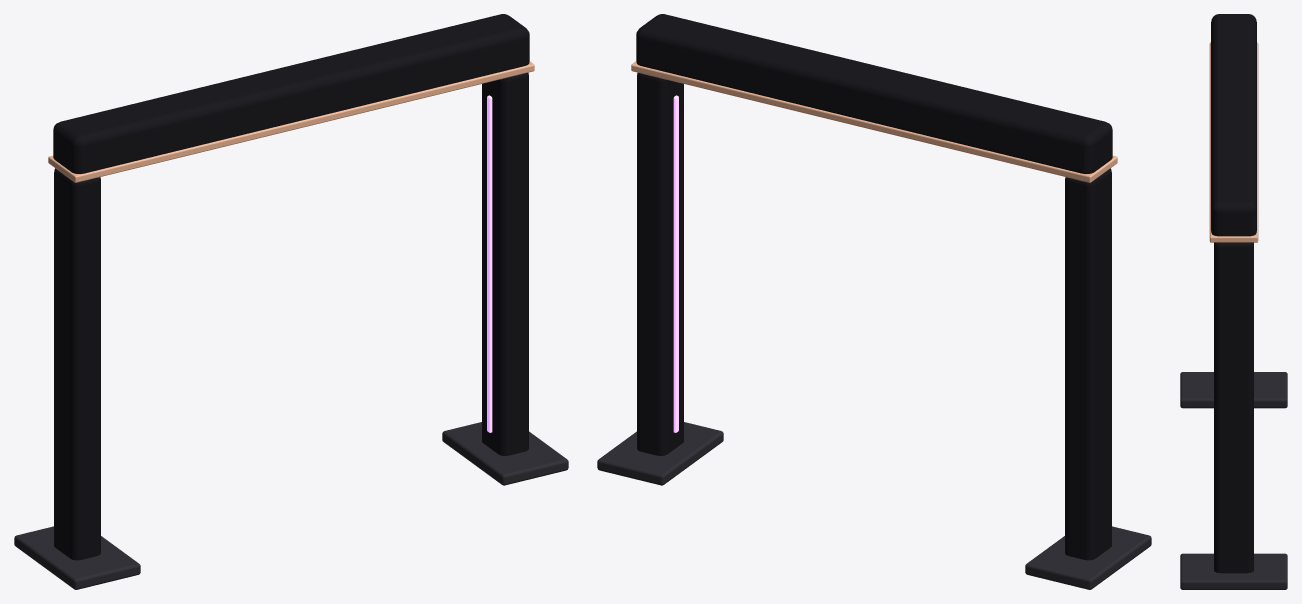
File: portal.glb
3 renders of one model, left to right at view 1: azimuth 30°, elevation 25°; view 2: azimuth 150°, elevation 25°; view 3: azimuth 270°, elevation 25°, orthographic. The views are drawn at different scales.
Parts seen in each view (by area): view 1: beam, post_-1, post_1, beam_copper, foot_1, foot_-1, post_led_1; view 2: beam, post_-1, post_1, beam_copper, foot_1, foot_-1, post_led_1; view 3: post_1, beam, foot_1, foot_-1, beam_copper.
Boxes of the visible parts, x1=… form: beam: x1=53, y1=14, x2=529, y2=173; post_-1: x1=54, y1=168, x2=100, y2=560; post_1: x1=482, y1=73, x2=528, y2=455; beam_copper: x1=48, y1=61, x2=534, y2=182; foot_1: x1=442, y1=422, x2=568, y2=485; foot_-1: x1=14, y1=526, x2=140, y2=589; post_led_1: x1=487, y1=95, x2=492, y2=432; beam: x1=636, y1=14, x2=1112, y2=173; post_-1: x1=1065, y1=168, x2=1111, y2=560; post_1: x1=637, y1=73, x2=683, y2=455; beam_copper: x1=631, y1=61, x2=1117, y2=182; foot_1: x1=597, y1=422, x2=723, y2=485; foot_-1: x1=1025, y1=526, x2=1151, y2=589; post_led_1: x1=673, y1=95, x2=678, y2=432; post_1: x1=1214, y1=242, x2=1253, y2=573; beam: x1=1211, y1=14, x2=1256, y2=236; foot_1: x1=1180, y1=553, x2=1287, y2=589; foot_-1: x1=1180, y1=372, x2=1287, y2=408; beam_copper: x1=1209, y1=42, x2=1258, y2=242.
Size of the model in its own units: 3.7 by 3.1 by 0.8.
